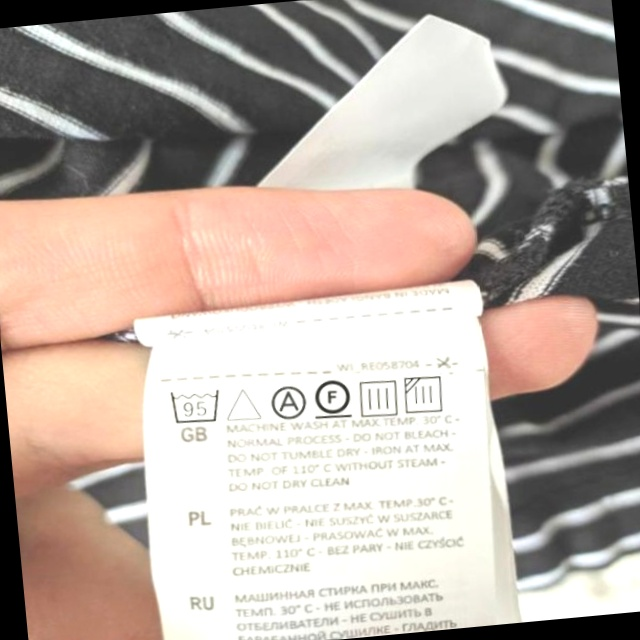95C: (166, 383, 225, 428)
bleach: (224, 382, 263, 426)
drip_dry: (355, 374, 403, 420)
drip_dry_in_shade: (402, 371, 451, 419)
dry_clean: (267, 382, 308, 422)
dry_clean_petrol_only: (312, 373, 355, 422)
